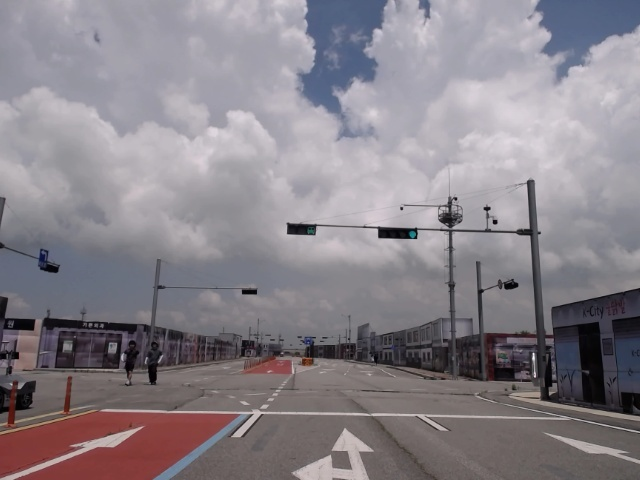straight_green_4: (378, 228, 418, 240)
